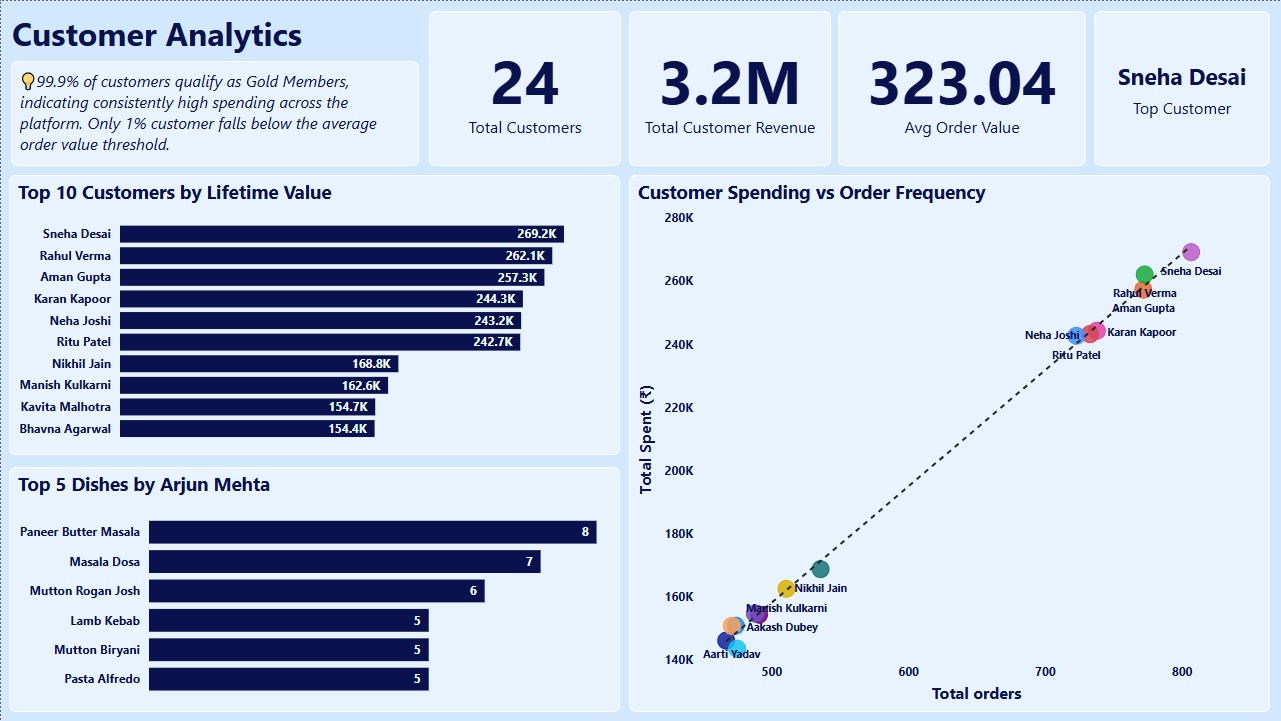

The dashboard page shown, as its layout file describes it:
{"tool":"powerbi","page":{"name":"Customer_Analytics","canvas":[1280,720],"ordinal":1},"visuals":[{"type":"card","title":"Total Platform Revenue","fields":{"Values":["customer_lifetime_value.Total Customer Revenue"]},"box":[628.3,9.7,201.3,155.6],"z":0},{"type":"card","title":"Total Platform Revenue","fields":{"Values":["customer_lifetime_value.Top Customer"]},"box":[1093.3,9.7,176,155.6],"z":1000},{"type":"card","title":"Total Platform Revenue","fields":{"Values":["customer_lifetime_value.Total Customers"]},"box":[428,9.7,191.6,155.6],"z":2000},{"type":"textbox","box":[6.2,5.3,433.6,71.8],"z":3000},{"type":"clusteredBarChart","title":"Top 10 Customers by Lifetime Value","fields":{"Category":["customer_lifetime_value.customer_name"],"Y":["Sum(customer_lifetime_value.customer_lifetime_value)"]},"box":[7.8,174.4,611.1,280],"z":4000},{"type":"card","fields":{"Values":["high_value_customers.Avg Order Value"]},"box":[837.4,9.7,248,155.6],"z":5000},{"type":"clusteredBarChart","title":"Top 5 Dishes by Arjun Mehta","fields":{"Category":["Top_5_dishes_by_Arjun_Mehta.dishes"],"Y":["Sum(Top_5_dishes_by_Arjun_Mehta.total_orders)"]},"box":[7.8,465.6,611.1,245.6],"z":6000},{"type":"scatterChart","title":"Customer Spending vs Order Frequency","fields":{"Series":["high_value_customers.customer_name"],"X":["Sum(high_value_customers.total_orders)"],"Y":["Sum(high_value_customers.total_spent)"]},"box":[627.8,174.4,641.1,536.7],"z":7000},{"type":"textbox","box":[10,60,407.5,105],"z":8000}]}

Visuals, with their boxes in screenshot pixels (x1, y1, x2, y2), scaled from the page's 1280x720 canvas onto the 1281x721 screenshot:
"Total Platform Revenue" card: box=[629, 10, 830, 166]
"Total Platform Revenue" card: box=[1094, 10, 1270, 166]
"Total Platform Revenue" card: box=[428, 10, 620, 166]
textbox: box=[6, 5, 440, 77]
"Top 10 Customers by Lifetime Value" clusteredBarChart: box=[8, 175, 619, 455]
card - high_value_customers.Avg Order Value: box=[838, 10, 1086, 166]
"Top 5 Dishes by Arjun Mehta" clusteredBarChart: box=[8, 466, 619, 712]
"Customer Spending vs Order Frequency" scatterChart: box=[628, 175, 1270, 712]
textbox: box=[10, 60, 418, 165]
